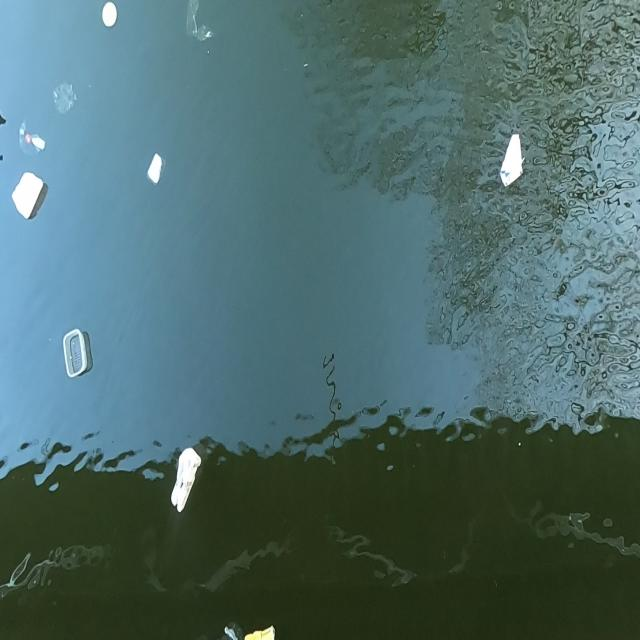Autre plastique: (497, 128, 530, 192), (61, 324, 92, 382), (144, 149, 169, 194), (99, 0, 121, 33)
Sac plastique: (50, 74, 82, 123), (184, 0, 217, 47)
